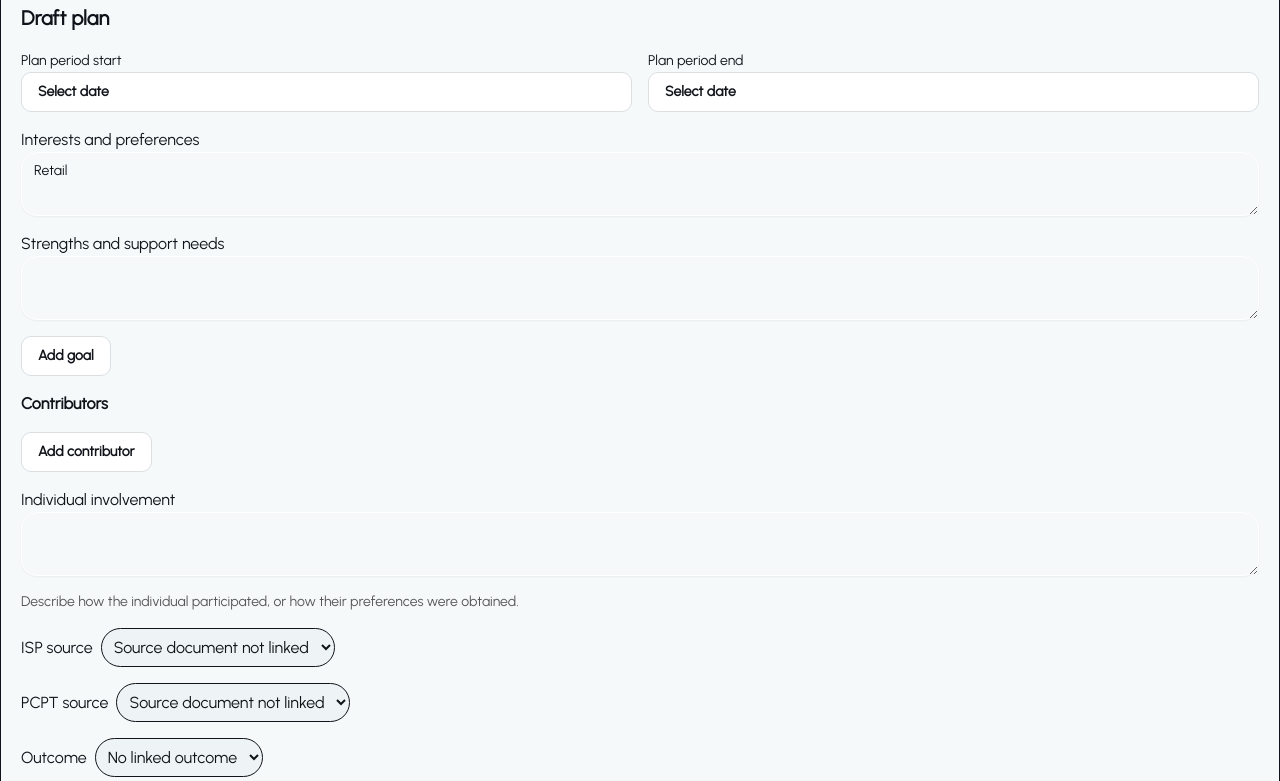
it: retains text on save conflict and exposes latest version
Replace the text in the text box labelled "Interests and preferences" with "Keep my changes" at (640, 184), box [21, 152, 1259, 216]
(page scrolled)
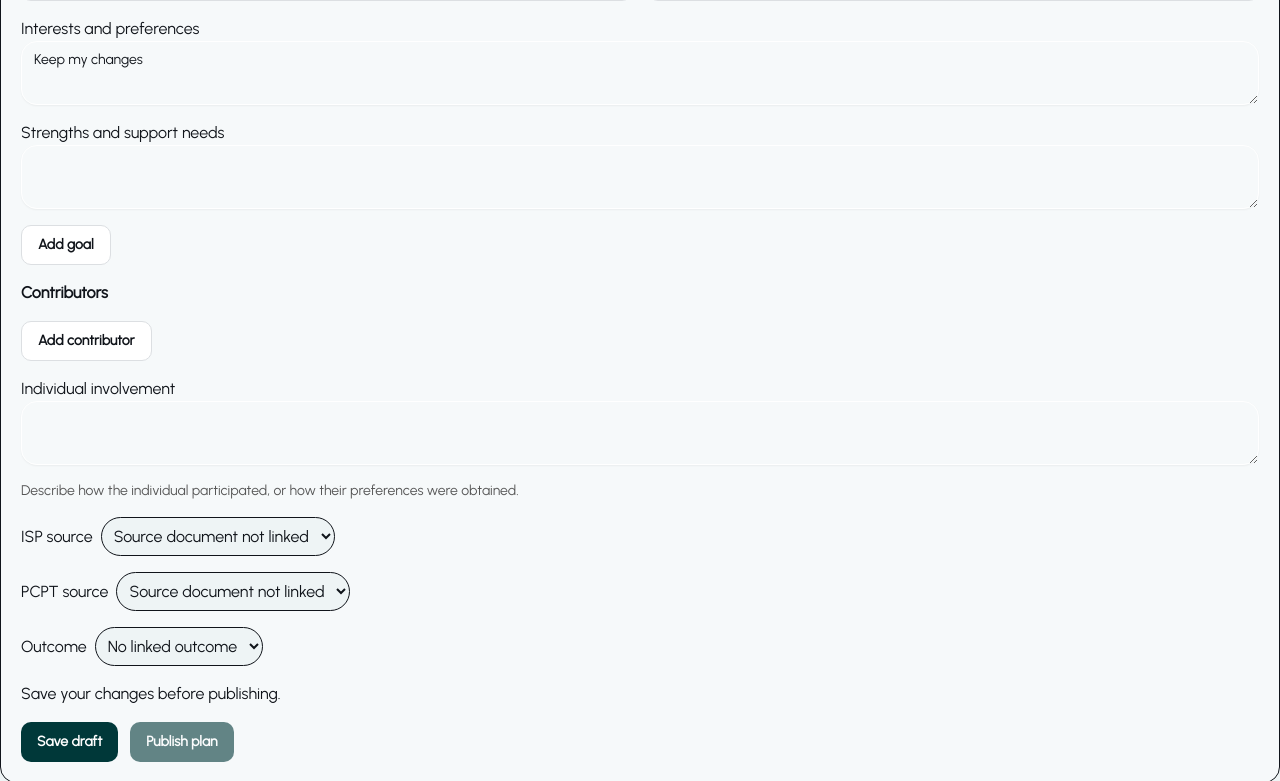
Click the button "Save draft" at (70, 742), box [21, 722, 118, 762]
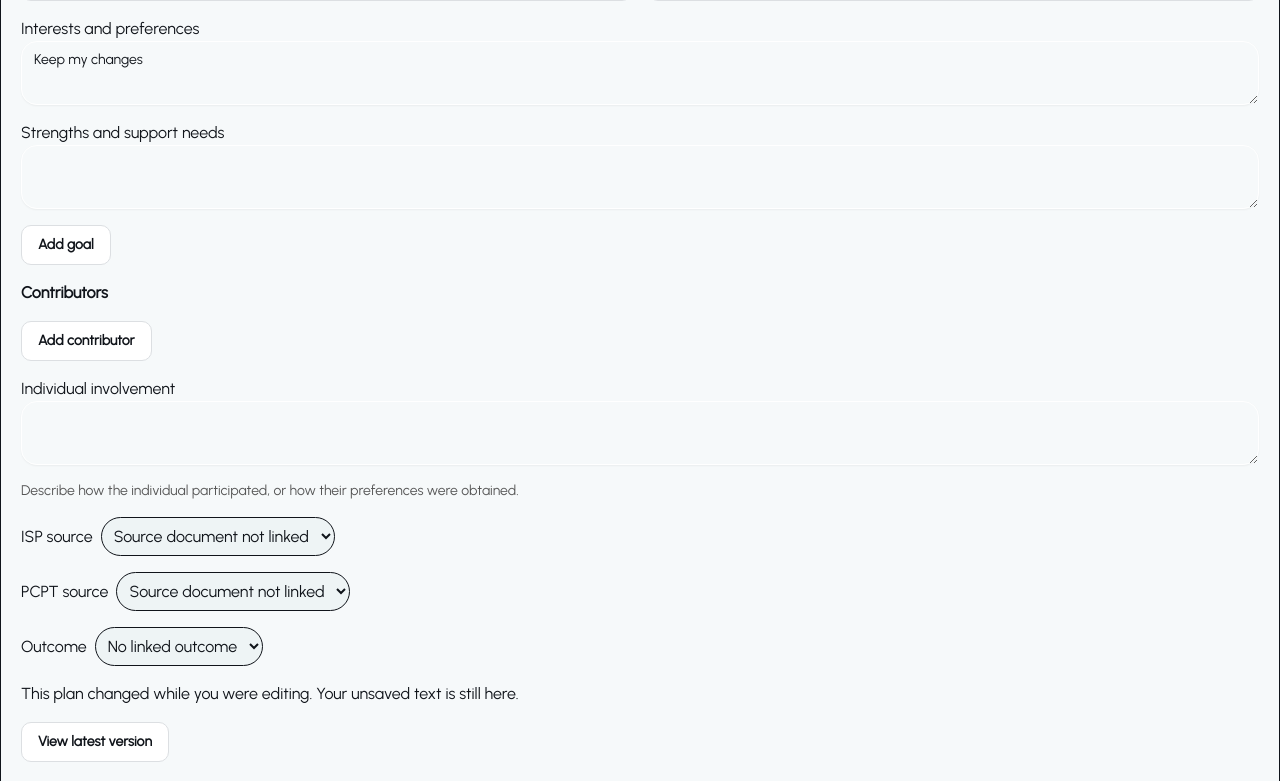
Result: the text "This plan changed while you were editing. Your unsaved text is still here." is shown at [21, 684, 519, 703]
Result: the button "View latest version" is enabled at [21, 722, 169, 762]
